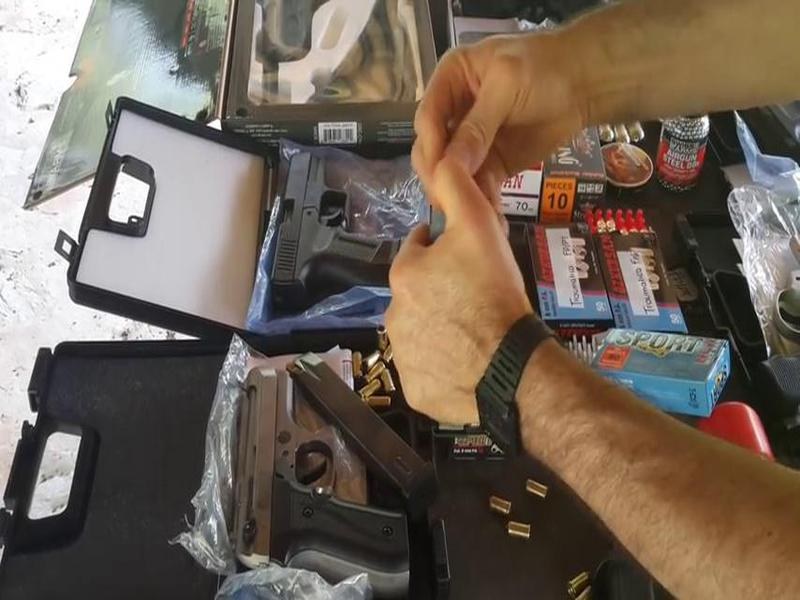Pistola: (189, 337, 417, 585), (266, 125, 437, 314)
